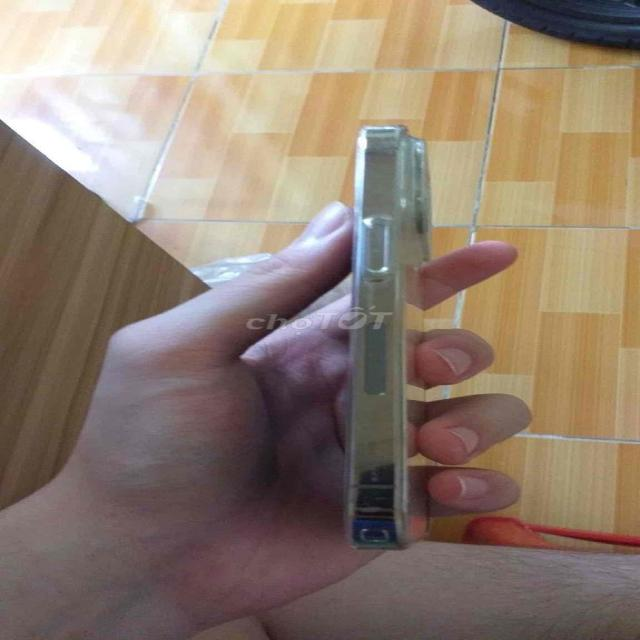gen_14: (327, 120, 460, 562)
